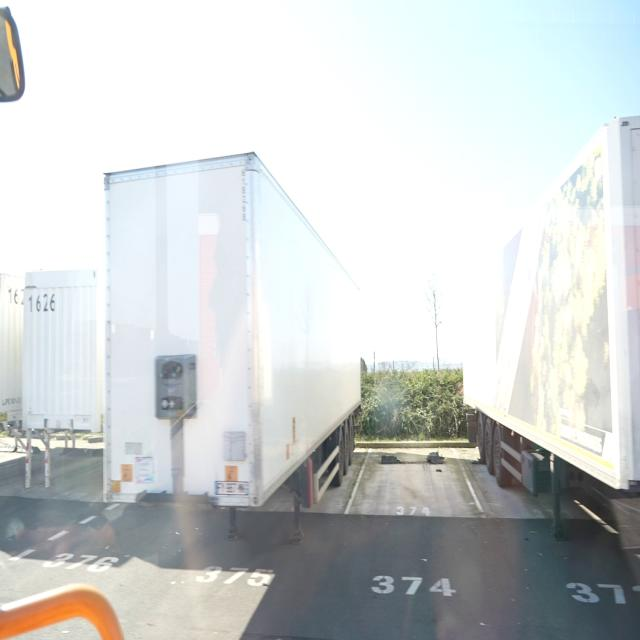Code: (26, 286, 62, 320)
